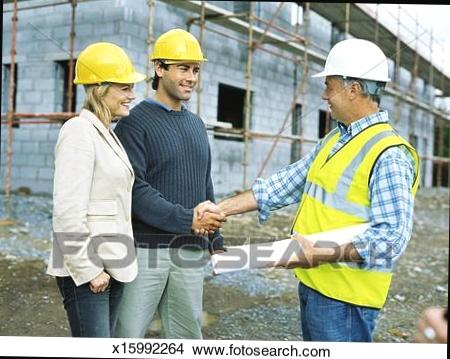helmet: (310, 34, 392, 87), (74, 40, 148, 86), (148, 24, 206, 64)
person: (281, 32, 426, 340), (45, 37, 150, 338), (135, 24, 218, 340)
